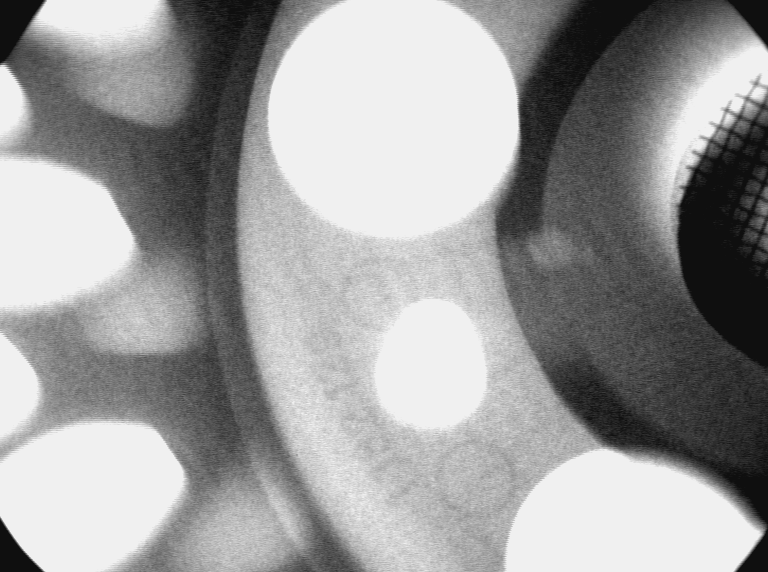defect: (530, 227, 599, 273)
